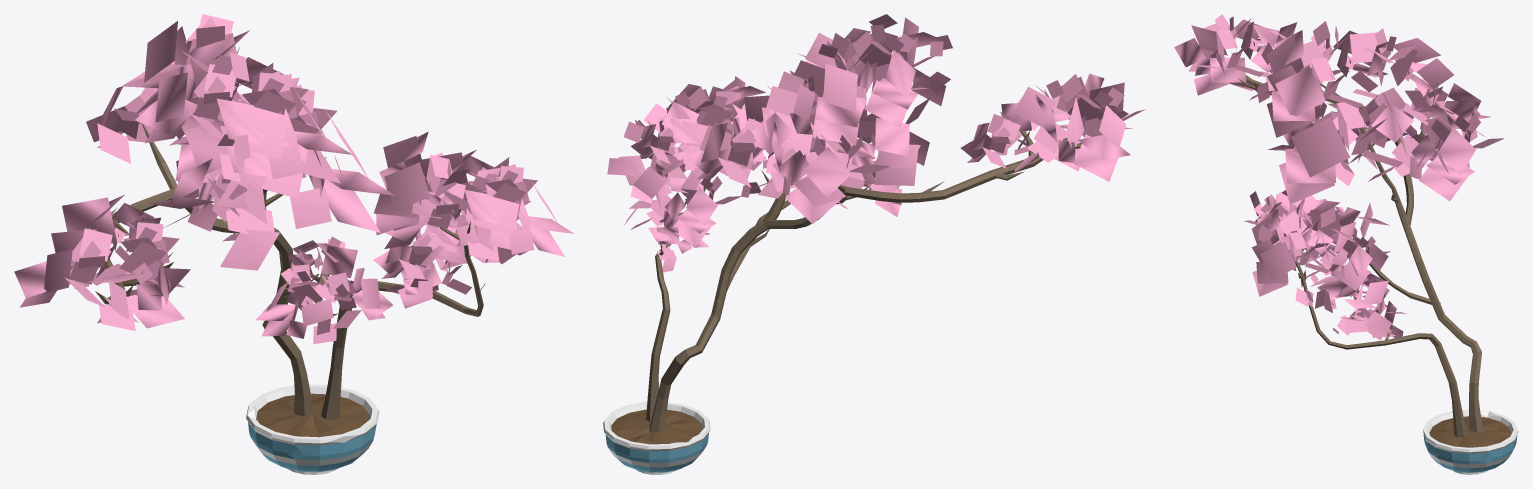
File: SFHW_Tree.fbx
3 renders of one model, left to right at view 1: azimuth 30°, elevation 25°; view 2: azimuth 150°, elevation 25°; view 3: azimuth 270°, elevation 25°, orthographic. The views are drawn at different scales.
Parts seen in each view (by area): view 1: SFHW_Tree; view 2: SFHW_Tree; view 3: SFHW_Tree.
Boxes of the visible parts, bbox=[...] form: SFHW_Tree: bbox=[14, 14, 574, 474]; SFHW_Tree: bbox=[603, 14, 1145, 474]; SFHW_Tree: bbox=[1174, 14, 1518, 474].
Size of the model in its own units: 214 by 188 by 154.
